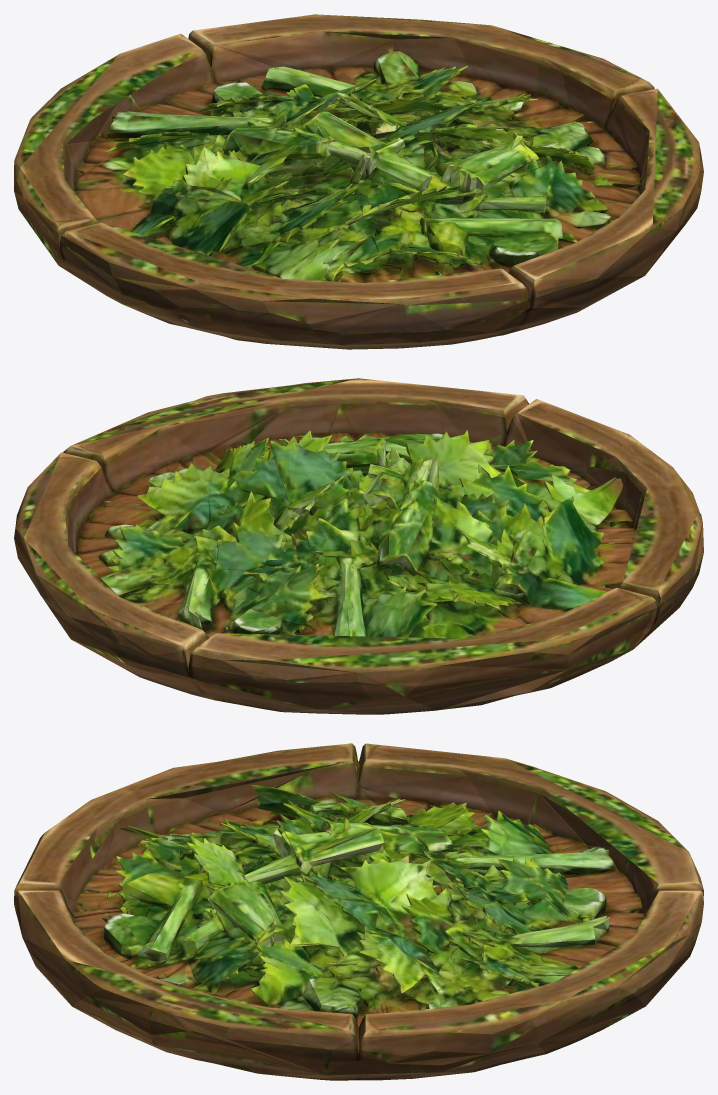
Rendered from dress-herb-plate.glb.
The picture shows the model from 3 angles, top to bottom: view 1: azimuth 30°, elevation 25°; view 2: azimuth 150°, elevation 25°; view 3: azimuth 270°, elevation 25°; orthographic projection.
Size of the model in its own units: 0.9999 by 0.2065 by 0.9996.
Materials: 1 (1 with a texture image).
